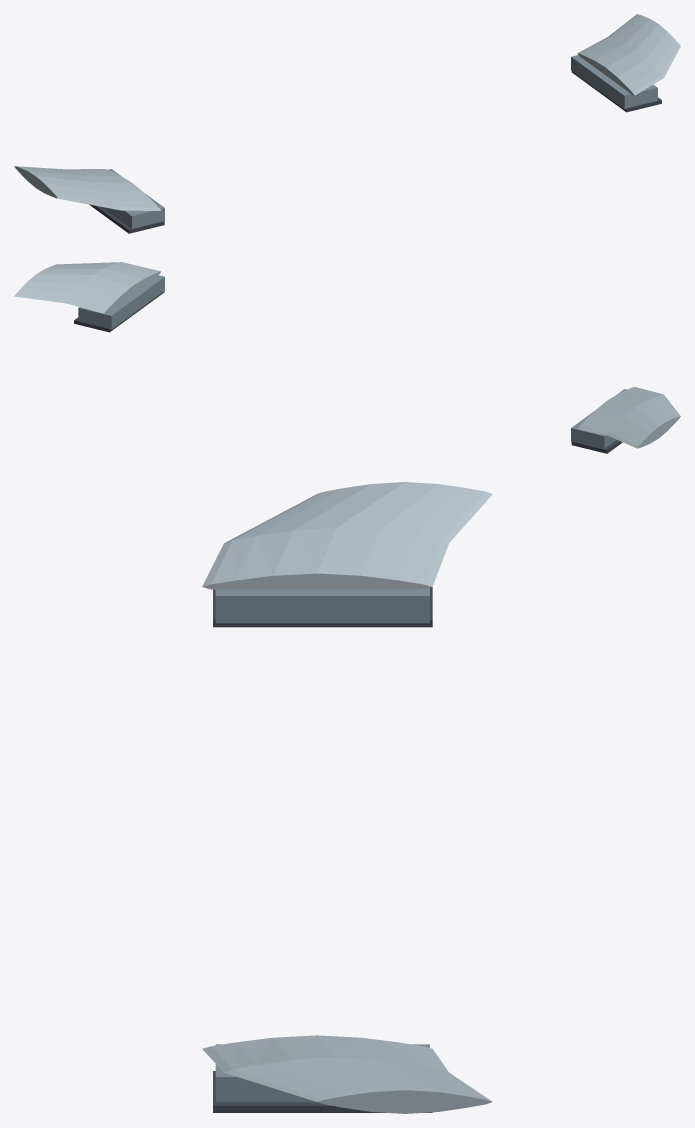
File: quarter_fins_0.glb
3 renders of one model, top to bottom at view 1: azimuth 30°, elevation 25°; view 2: azimuth 150°, elevation 25°; view 3: azimuth 270°, elevation 25°, orthographic. The views are drawn at different scales.
Parts seen in each view (by area): view 1: QUARTER_STARBOARD_STREET_SWEEP, QUARTER_PORT_STREET_SWEEP, QUARTER_STARBOARD_ROOT_SHOE, QUARTER_PORT_ROOT_SHOE, QUARTER_PORT_ROOT_GASKET; view 2: QUARTER_STARBOARD_STREET_SWEEP, QUARTER_PORT_STREET_SWEEP, QUARTER_STARBOARD_ROOT_SHOE, QUARTER_PORT_ROOT_SHOE; view 3: QUARTER_PORT_STREET_SWEEP, QUARTER_STARBOARD_STREET_SWEEP, QUARTER_PORT_ROOT_SHOE, QUARTER_STARBOARD_ROOT_SHOE, QUARTER_STARBOARD_ROOT_GASKET, QUARTER_PORT_ROOT_GASKET.
Part boxes in pixels (bbox=[...]): QUARTER_STARBOARD_STREET_SWEEP: bbox=[577, 14, 680, 95]; QUARTER_PORT_STREET_SWEEP: bbox=[14, 166, 161, 210]; QUARTER_STARBOARD_ROOT_SHOE: bbox=[571, 55, 657, 109]; QUARTER_PORT_ROOT_SHOE: bbox=[102, 169, 164, 228]; QUARTER_PORT_ROOT_GASKET: bbox=[89, 204, 164, 233]; QUARTER_STARBOARD_STREET_SWEEP: bbox=[14, 262, 161, 313]; QUARTER_PORT_STREET_SWEEP: bbox=[577, 387, 680, 448]; QUARTER_STARBOARD_ROOT_SHOE: bbox=[78, 275, 164, 329]; QUARTER_PORT_ROOT_SHOE: bbox=[571, 389, 626, 448]; QUARTER_PORT_STREET_SWEEP: bbox=[202, 482, 492, 590]; QUARTER_STARBOARD_STREET_SWEEP: bbox=[202, 1035, 492, 1113]; QUARTER_PORT_ROOT_SHOE: bbox=[215, 588, 429, 623]; QUARTER_STARBOARD_ROOT_SHOE: bbox=[215, 1044, 429, 1102]; QUARTER_STARBOARD_ROOT_GASKET: bbox=[213, 1071, 432, 1112]; QUARTER_PORT_ROOT_GASKET: bbox=[213, 587, 432, 627].
Bounding box in the file's own units: 2.62 × 0.134 × 0.53.
